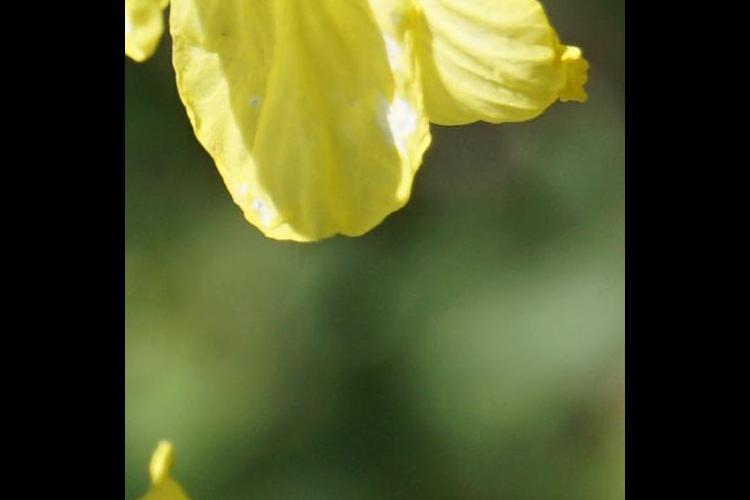yellow: (134, 1, 605, 258)
